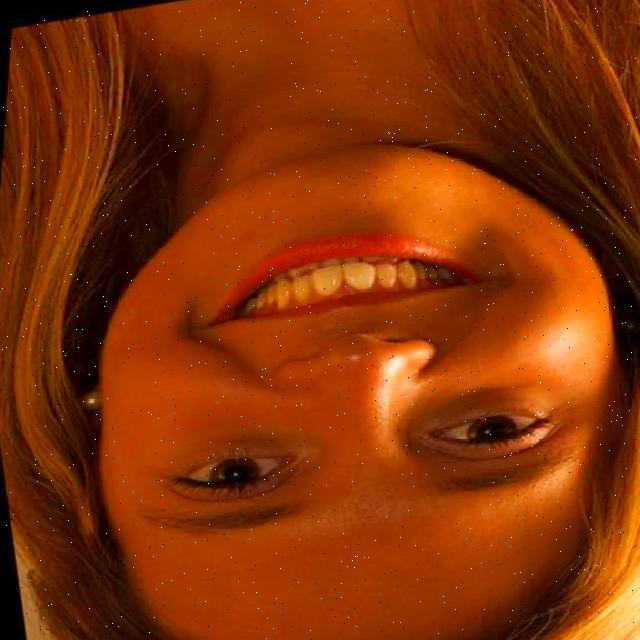puffy_eyes: (159, 430, 291, 482), (413, 383, 545, 433)
